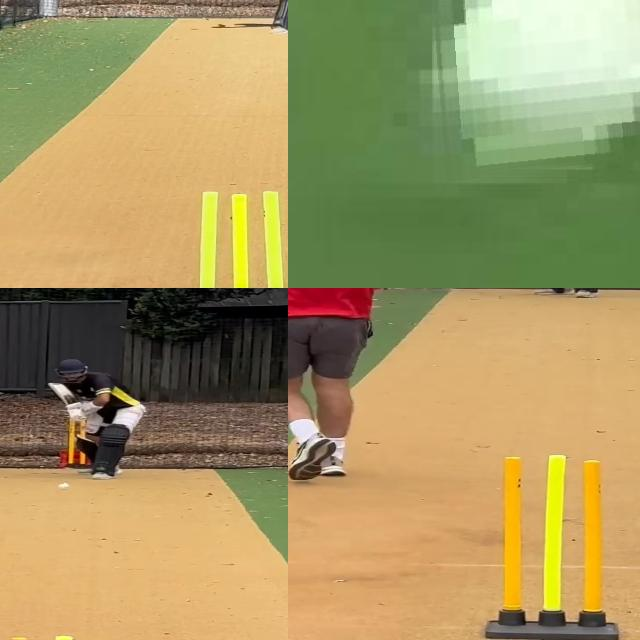Cricket ball: (428, 0, 640, 182), (58, 482, 72, 489), (436, 288, 454, 290)
Stumps: (481, 455, 622, 640)
